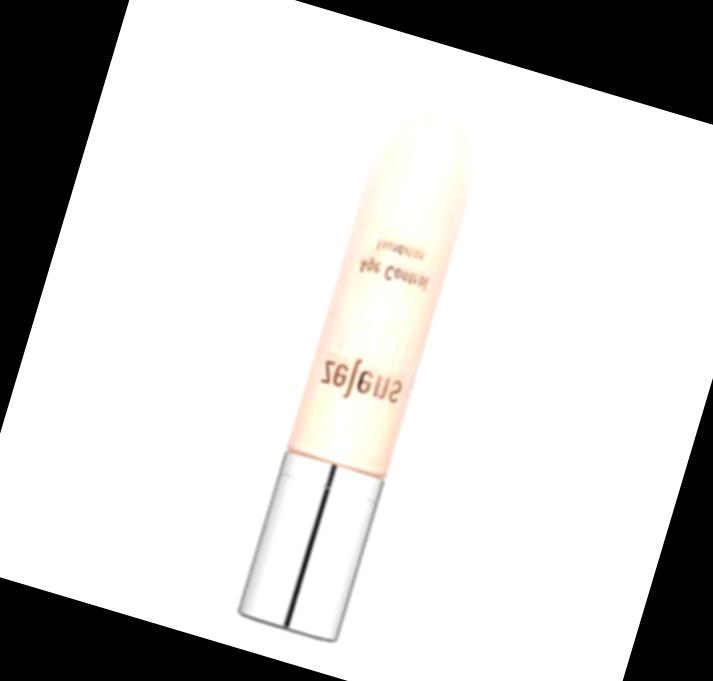cosmetic: (234, 54, 506, 648)
